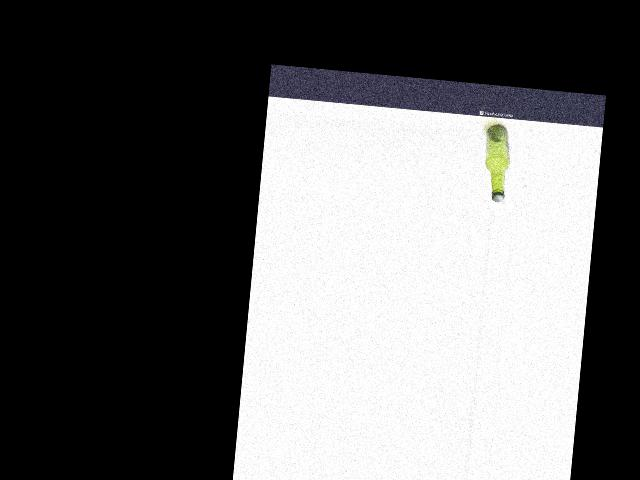beer: (480, 124, 511, 202)
